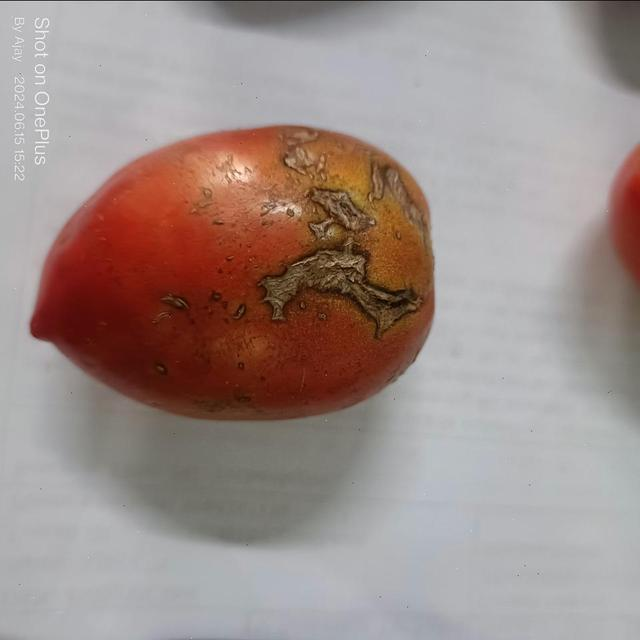Cracking Fruit: (132, 114, 412, 301)
